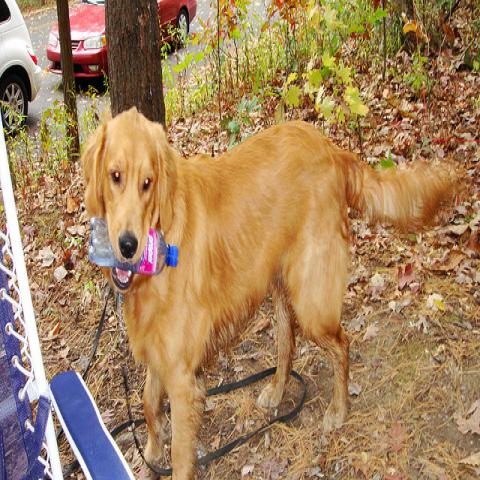car: (50, 3, 196, 77), (1, 1, 42, 134)
